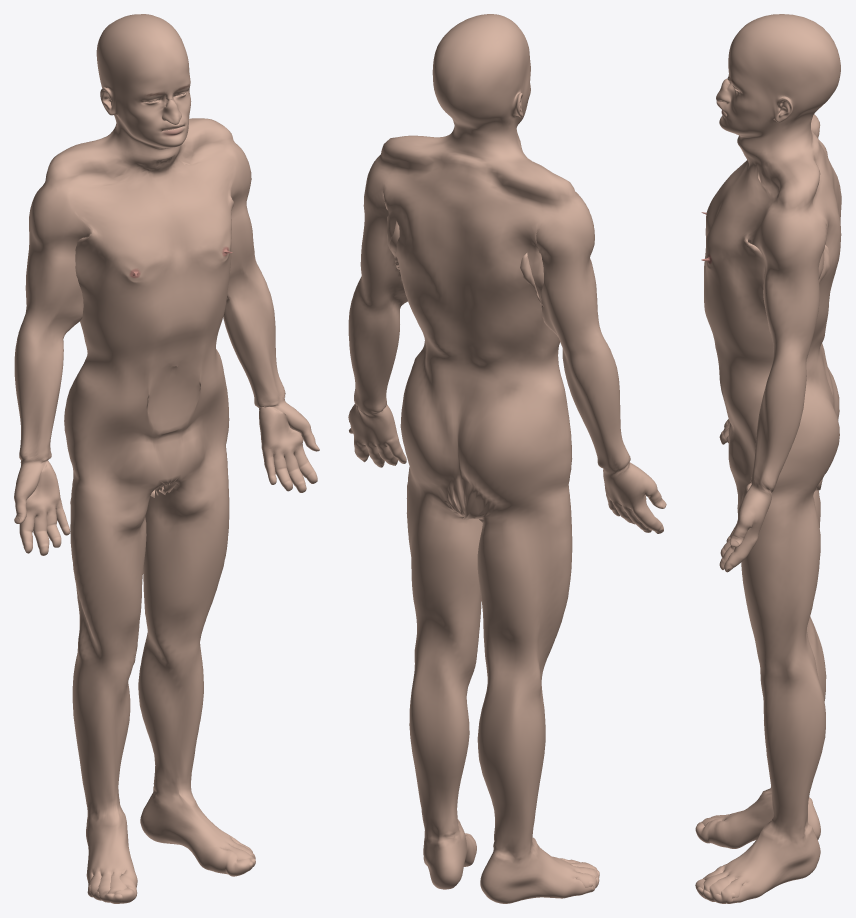
File: A1_AB_NativeExterior_Rest.glb
The picture shows the model from 3 angles, left to right: view 1: azimuth 30°, elevation 25°; view 2: azimuth 150°, elevation 25°; view 3: azimuth 270°, elevation 25°; orthographic projection. The views are drawn at different scales.
Parts seen in each view (by area): view 1: a1_OriginalABSkin; view 2: a1_OriginalABSkin; view 3: a1_OriginalABSkin.
Boxes of the visible parts, x1,y1,x2,y2 form: a1_OriginalABSkin: [14, 14, 319, 903]; a1_OriginalABSkin: [348, 14, 666, 903]; a1_OriginalABSkin: [695, 14, 841, 903].
Size of the model in its own units: 0.6699 by 1.78 by 0.2768.
